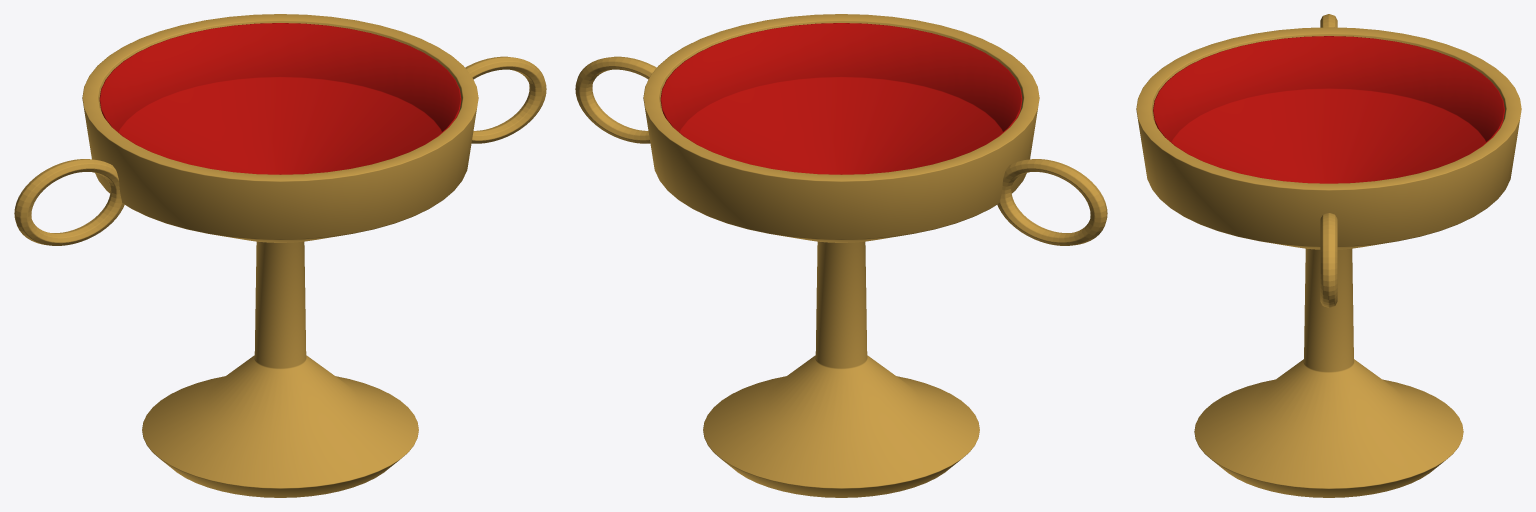
The picture shows the model from 3 angles, left to right: view 1: azimuth 30°, elevation 25°; view 2: azimuth 150°, elevation 25°; view 3: azimuth 270°, elevation 25°; orthographic projection. The views are drawn at different scales.
Visible parts, largest first — view 1: TI067 / gold foot stem and hollow bowl, TI067 / red inner lining, TI067 / separate cup loop handle, TI067 / separate cup loop handle.001; view 2: TI067 / gold foot stem and hollow bowl, TI067 / red inner lining, TI067 / separate cup loop handle, TI067 / separate cup loop handle.001; view 3: TI067 / gold foot stem and hollow bowl, TI067 / red inner lining, TI067 / separate cup loop handle.001.
Part boxes in pixels (x1,y1,x2,y2): TI067 / gold foot stem and hollow bowl: (82, 14, 478, 497); TI067 / red inner lining: (99, 23, 461, 174); TI067 / separate cup loop handle: (14, 159, 124, 245); TI067 / separate cup loop handle.001: (465, 56, 546, 143); TI067 / gold foot stem and hollow bowl: (643, 14, 1039, 497); TI067 / red inner lining: (660, 23, 1022, 174); TI067 / separate cup loop handle: (997, 159, 1107, 245); TI067 / separate cup loop handle.001: (575, 56, 656, 143); TI067 / gold foot stem and hollow bowl: (1136, 27, 1521, 497); TI067 / red inner lining: (1153, 36, 1504, 183); TI067 / separate cup loop handle.001: (1320, 213, 1337, 307).
Bounding box in the file's own units: 3.09 × 1.95 × 2.
